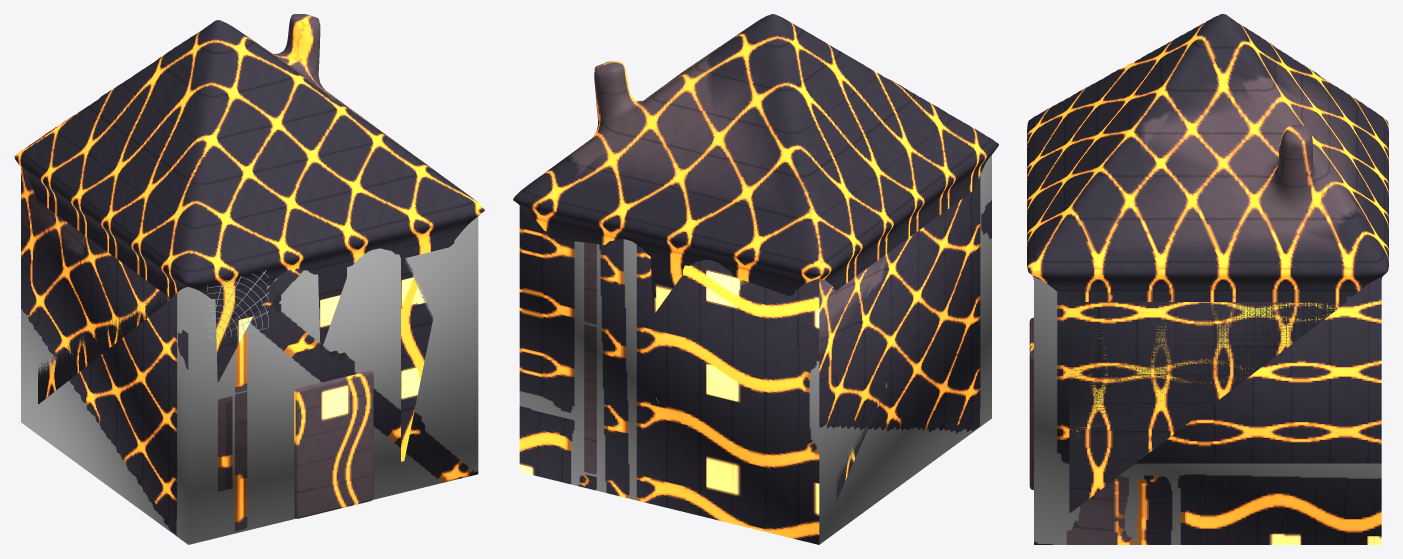
File: house_lava.glb
The picture shows the model from 3 angles, left to right: view 1: azimuth 30°, elevation 25°; view 2: azimuth 150°, elevation 25°; view 3: azimuth 270°, elevation 25°; orthographic projection. The views are drawn at different scales.
Visible parts, largest first — view 1: col, lod0, door, cobweb; view 2: col, lod0; view 3: lod0, col, door.
Boxes of the visible parts, x1=… form: col: x1=21, y1=167, x2=478, y2=544; lod0: x1=14, y1=14, x2=484, y2=461; door: x1=294, y1=371, x2=373, y2=518; cobweb: x1=207, y1=270, x2=268, y2=340; col: x1=519, y1=155, x2=991, y2=544; lod0: x1=513, y1=14, x2=998, y2=499; lod0: x1=1027, y1=14, x2=1388, y2=512; col: x1=1034, y1=277, x2=1381, y2=544; door: x1=1029, y1=317, x2=1033, y2=489.
Size of what is drawn, in the model's own units: 7.28 by 9.87 by 7.28.
Materials: 2 (2 with a texture image).
